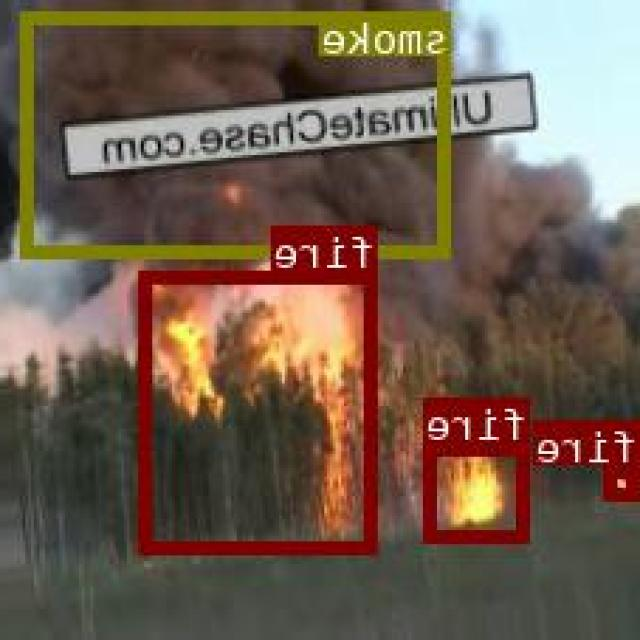fire: (143, 269, 380, 551), (427, 441, 531, 540), (606, 462, 640, 499)
smoke: (23, 11, 451, 256)
